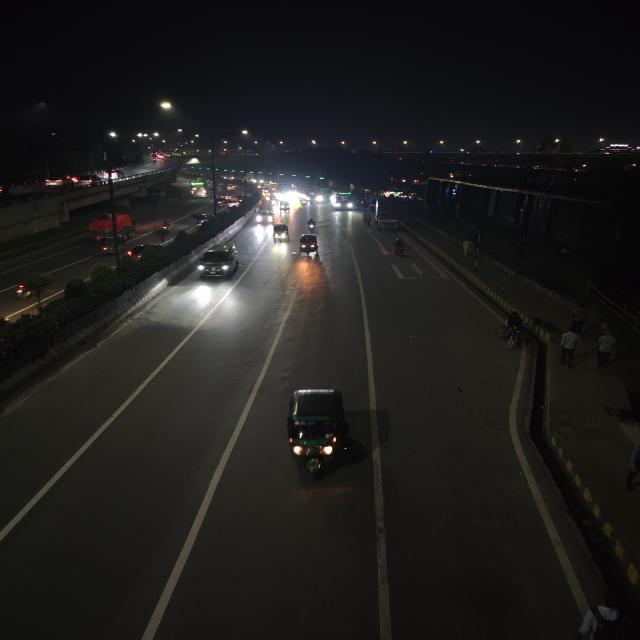bus: (330, 186, 356, 212), (299, 187, 324, 206), (190, 182, 209, 201)
car: (194, 242, 243, 283), (254, 208, 276, 226), (42, 177, 70, 189), (191, 211, 212, 225), (76, 174, 98, 186), (223, 198, 239, 208), (226, 182, 236, 192)
cng: (273, 386, 356, 484), (297, 232, 323, 260), (268, 223, 290, 243), (281, 203, 291, 215)
motorcycle: (494, 311, 526, 350), (390, 236, 411, 258), (126, 242, 149, 262), (157, 218, 173, 235), (304, 217, 319, 233)
pedestrian: (593, 328, 620, 372), (554, 327, 582, 369), (566, 306, 592, 335)
pickup_van: (85, 211, 139, 238)
truck: (373, 196, 405, 233)
